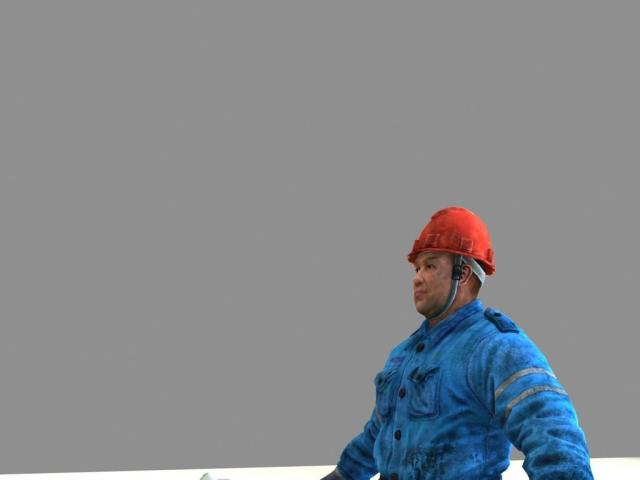Helmet: (403, 202, 498, 280)
